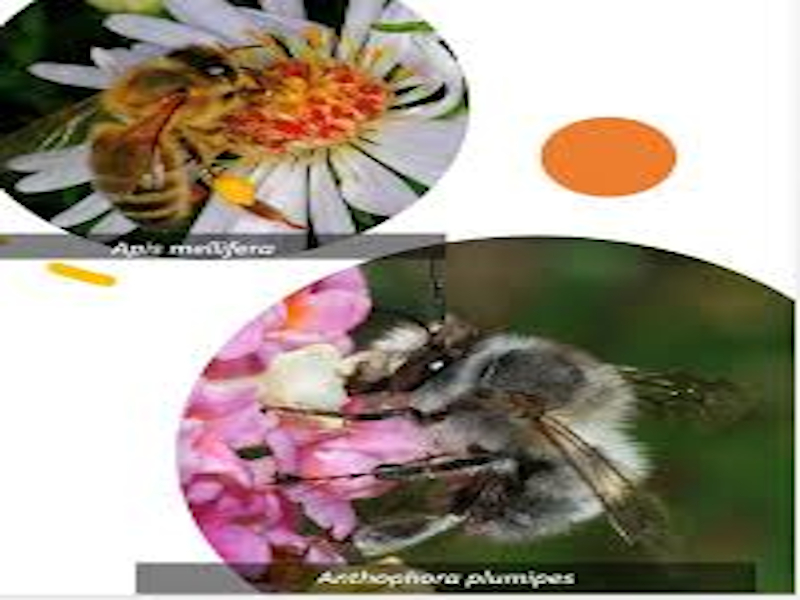abeja: (80, 20, 318, 269)
